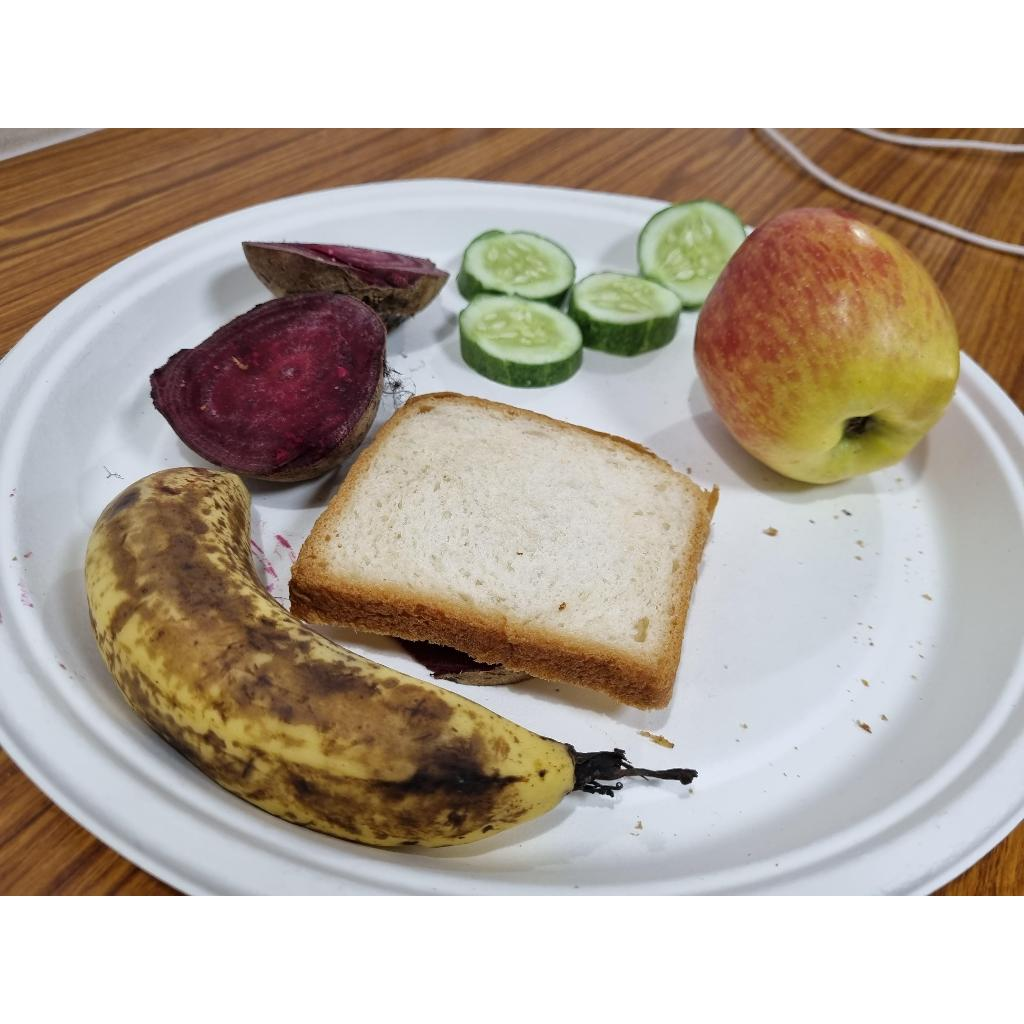apple: (693, 207, 961, 488)
banana: (83, 468, 580, 858)
cucumber: (634, 201, 753, 312), (455, 294, 583, 391), (554, 273, 686, 359), (457, 230, 579, 312)
